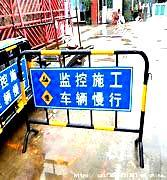sign: (31, 69, 131, 111)
